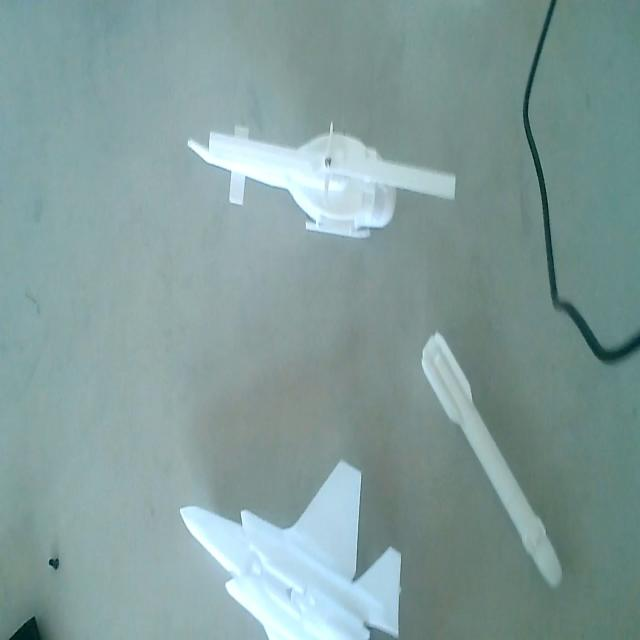Helicopter: (187, 117, 463, 251)
Jet: (175, 459, 404, 640)
Rocket: (420, 328, 565, 595)
